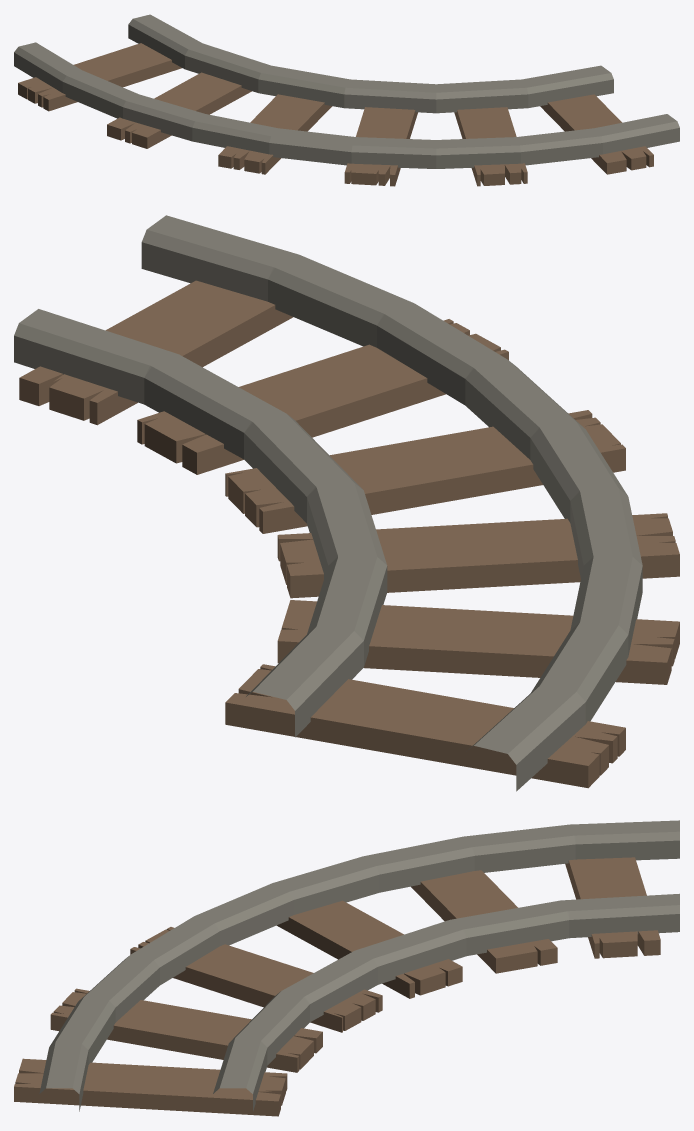
Rendered from Cave_Prop_Railway_Curve_Large.glb.
3 renders of one model, top to bottom at view 1: azimuth 30°, elevation 25°; view 2: azimuth 150°, elevation 25°; view 3: azimuth 270°, elevation 25°, orthographic. The views are drawn at different scales.
Parts seen in each view (by area): view 1: Cave_Prop_Railway_Curve_Large; view 2: Cave_Prop_Railway_Curve_Large; view 3: Cave_Prop_Railway_Curve_Large.
Boxes of the visible parts, box(x1,y1,x2,y2) form: Cave_Prop_Railway_Curve_Large: box(14, 14, 679, 186); Cave_Prop_Railway_Curve_Large: box(14, 215, 679, 791); Cave_Prop_Railway_Curve_Large: box(14, 820, 679, 1116).
Size of the model in its own units: 2.49 by 0.15 by 2.49.
